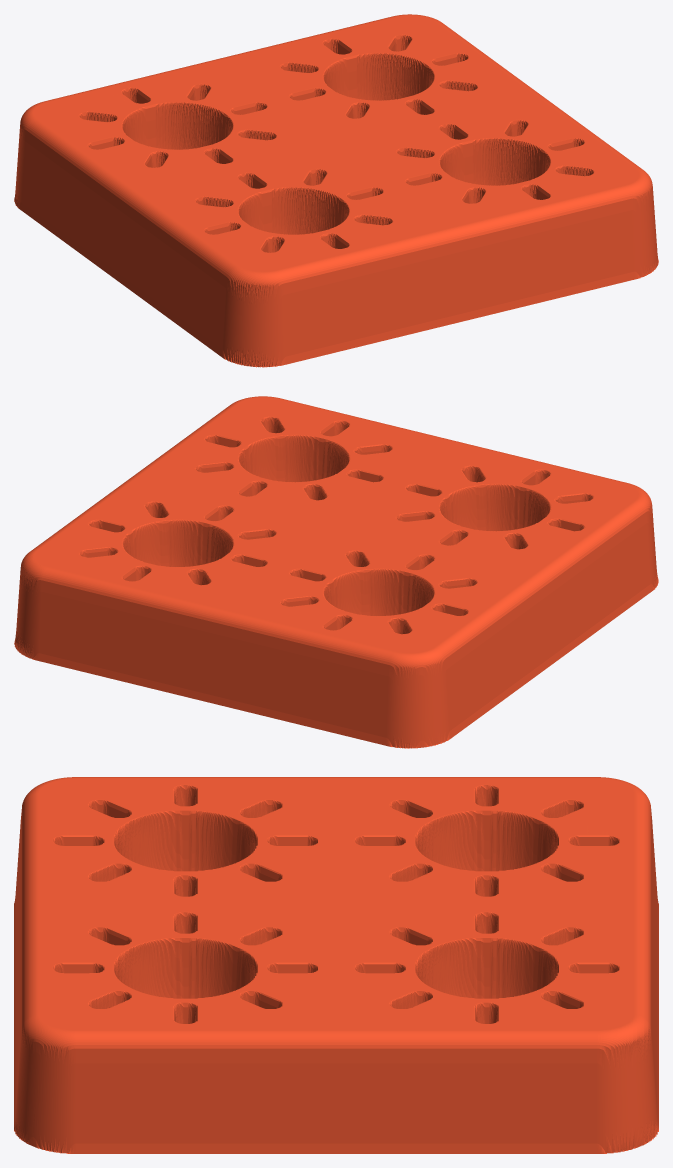
Rendered from mold.glb.
3 views of the same model, one above another, from view 1: azimuth 30°, elevation 25°; view 2: azimuth 150°, elevation 25°; view 3: azimuth 270°, elevation 25° (orthographic). The views are drawn at different scales.
Visible parts, largest first — view 1: geometry_0; view 2: geometry_0; view 3: geometry_0.
Boxes of the visible parts, box(x1,y1,x2,y2) form: geometry_0: box(14, 14, 658, 367); geometry_0: box(14, 396, 658, 748); geometry_0: box(14, 777, 658, 1153).
Bounding box in the file's own units: 0.0942 × 0.0182 × 0.0942.
